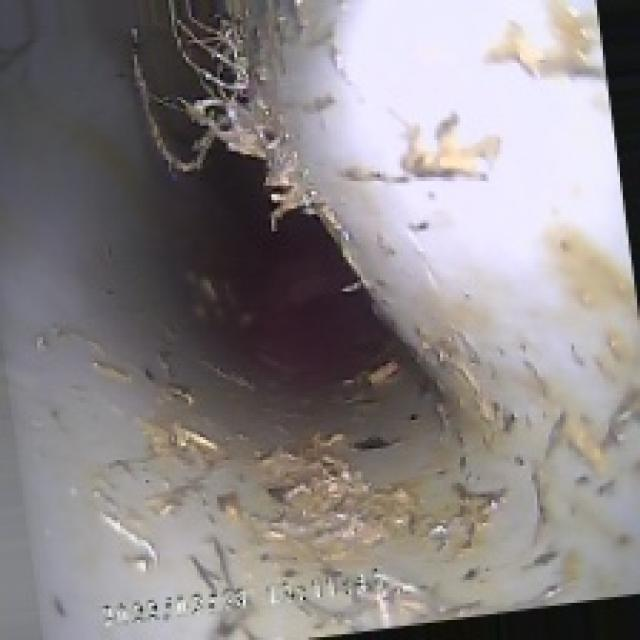shape_deformation: (129, 57, 577, 483)
